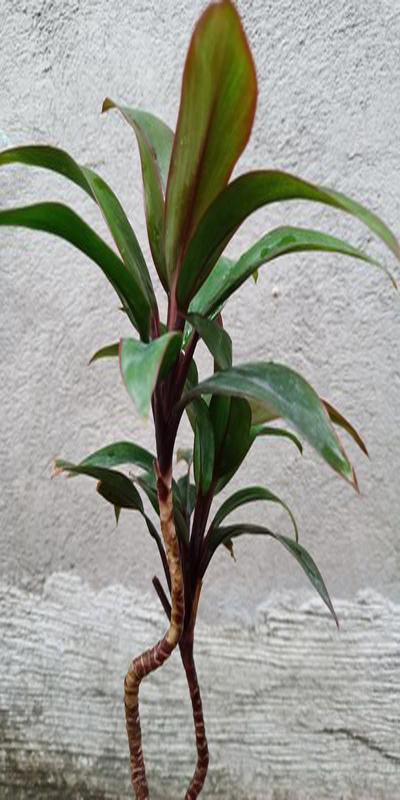Baston de san jose: (26, 46, 379, 770)
